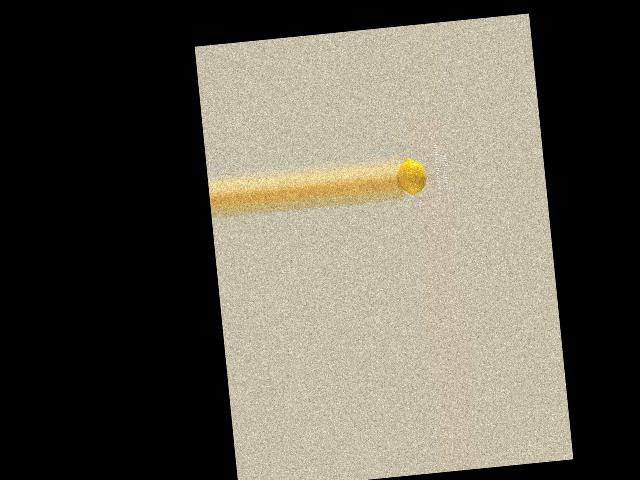lemon: (397, 156, 429, 196)
